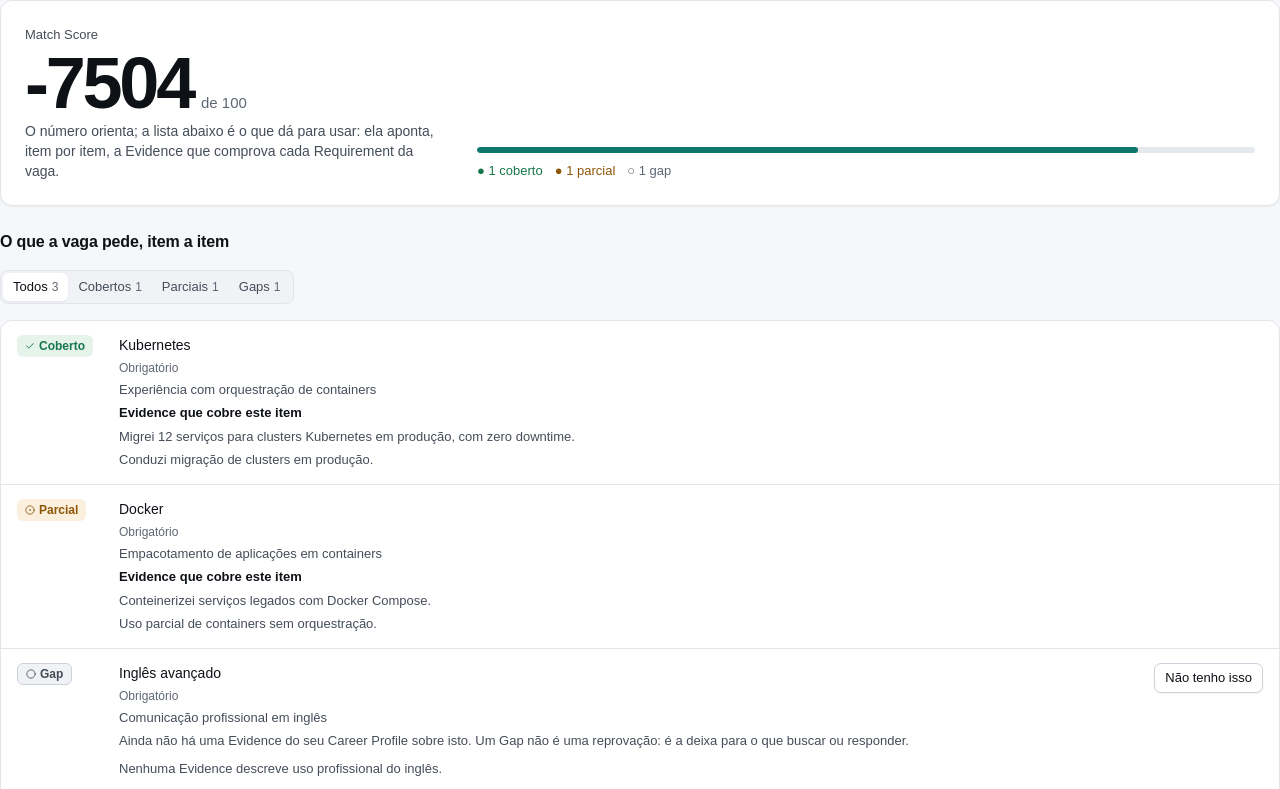
Test case: EvaluationScreen › should filter to Gaps only with correct counters
Expected: the radio button labelled "Cobertos 1" is shown, [68,273,152,301]
Expected: the radio button labelled "Parciais 1" is shown, [152,273,229,301]
Click the radio button labelled "Gaps 1" at (260,287), box [229,273,291,301]
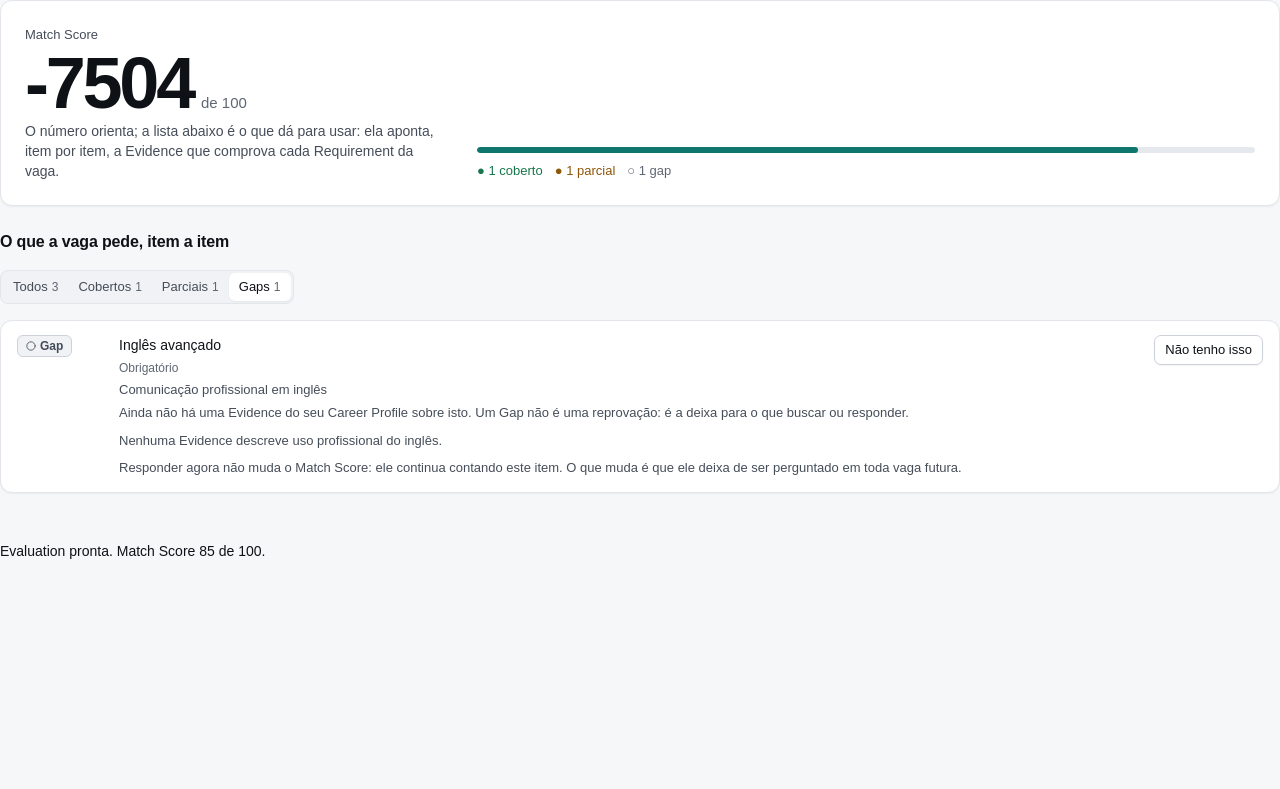
Now the number of list items is 1, box [1,321,1279,492]
Now the text "Kubernetes" is gone
Now the text "Docker" is gone
